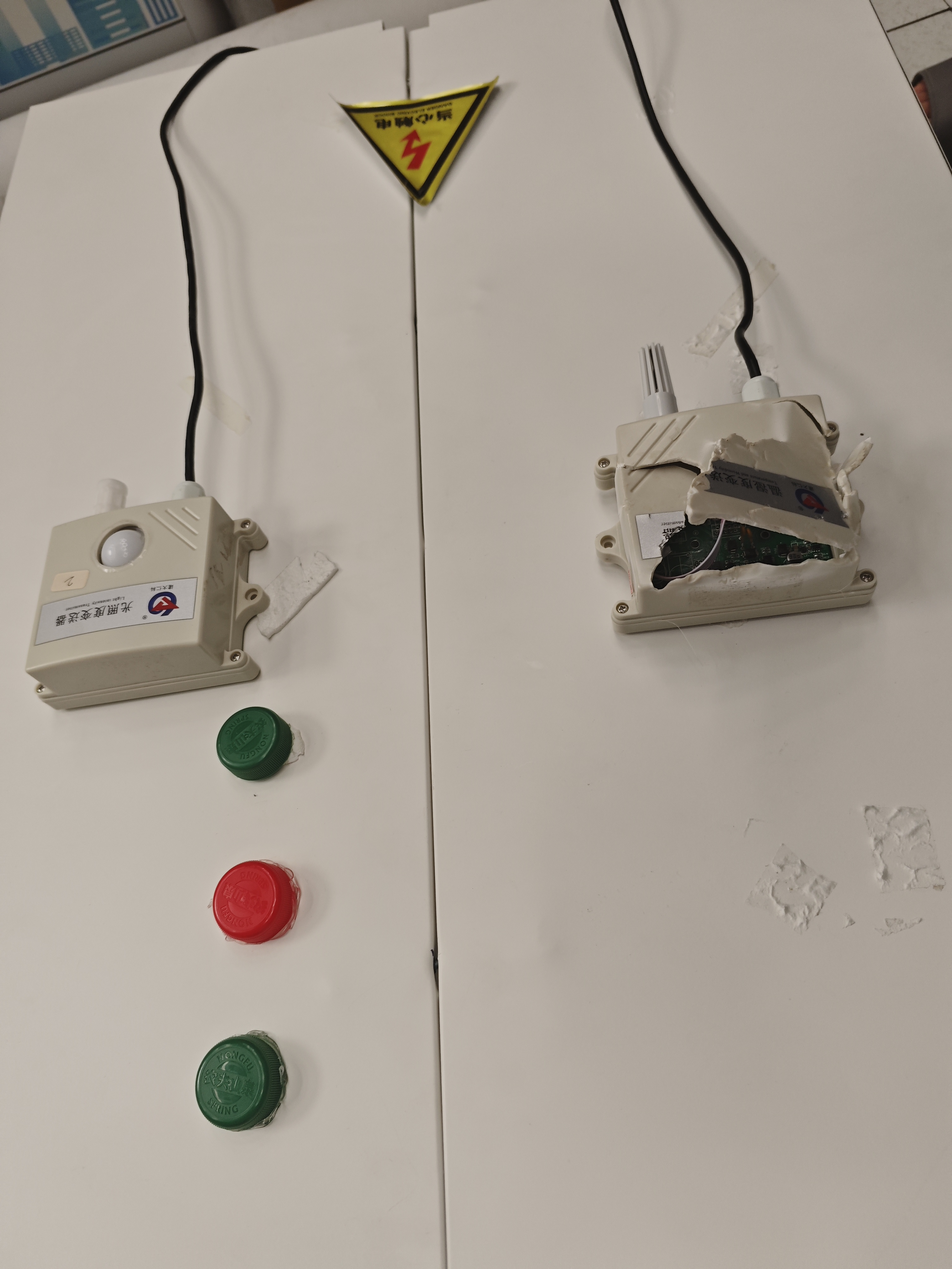red_warning: (161, 829, 326, 951)
sensor_damage: (572, 302, 910, 643)
